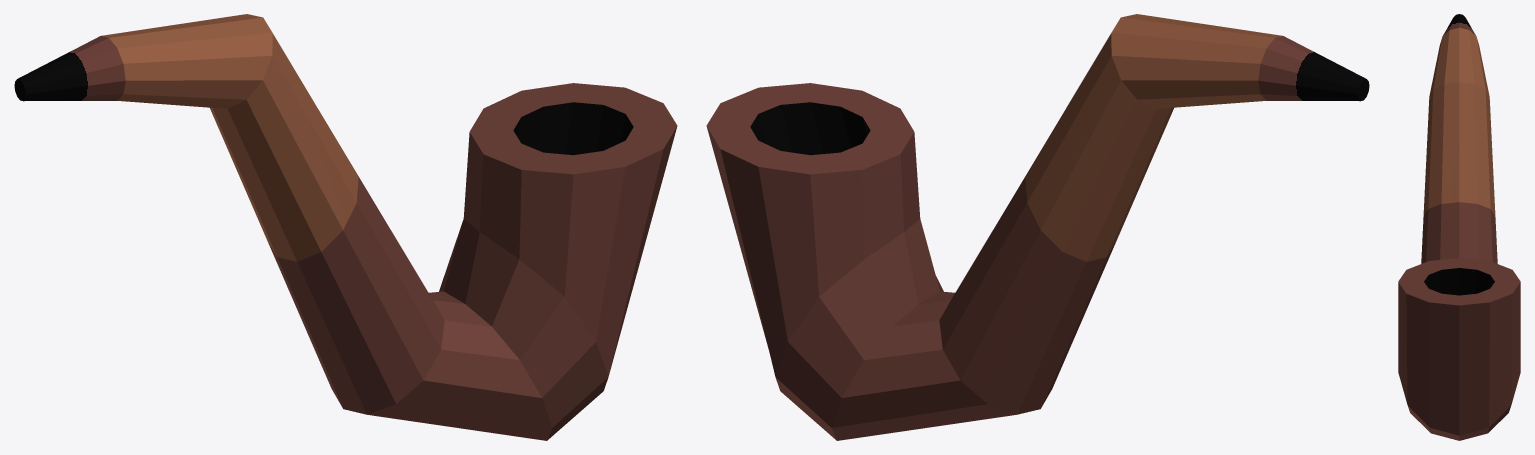
Rendered from fajka.fbx.
3 views of the same model, side by side, from view 1: azimuth 30°, elevation 25°; view 2: azimuth 150°, elevation 25°; view 3: azimuth 270°, elevation 25° (orthographic). The views are drawn at different scales.
Parts seen in each view (by area): view 1: fajka; view 2: fajka; view 3: fajka.
Boxes of the visible parts, box(x1,y1,x2,y2) form: fajka: box(14, 14, 677, 440); fajka: box(706, 14, 1369, 440); fajka: box(1398, 14, 1520, 440).
Bounding box in the file's own units: 50.17 × 37.02 × 14.05.
